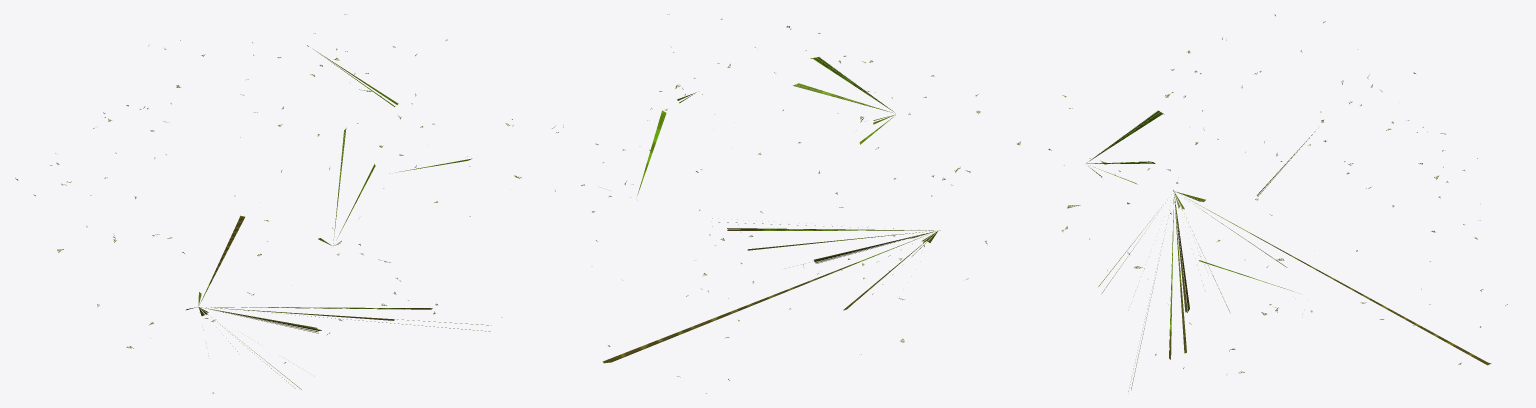
Rendered from shrubbery.glb.
The picture shows the model from 3 angles, left to right: view 1: azimuth 30°, elevation 25°; view 2: azimuth 150°, elevation 25°; view 3: azimuth 270°, elevation 25°; orthographic projection. The views are drawn at different scales.
Visible parts, largest first — view 1: geometry_0; view 2: geometry_0; view 3: geometry_0.
Part boxes in pixels (left/top/right/bottom): geometry_0: left=15, top=14, right=521, bottom=393; geometry_0: left=552, top=14, right=987, bottom=393; geometry_0: left=1017, top=14, right=1507, bottom=391.
Size of the model in its own units: 0.9218 by 0.5689 by 0.9039.
1 material, 1 textured.
